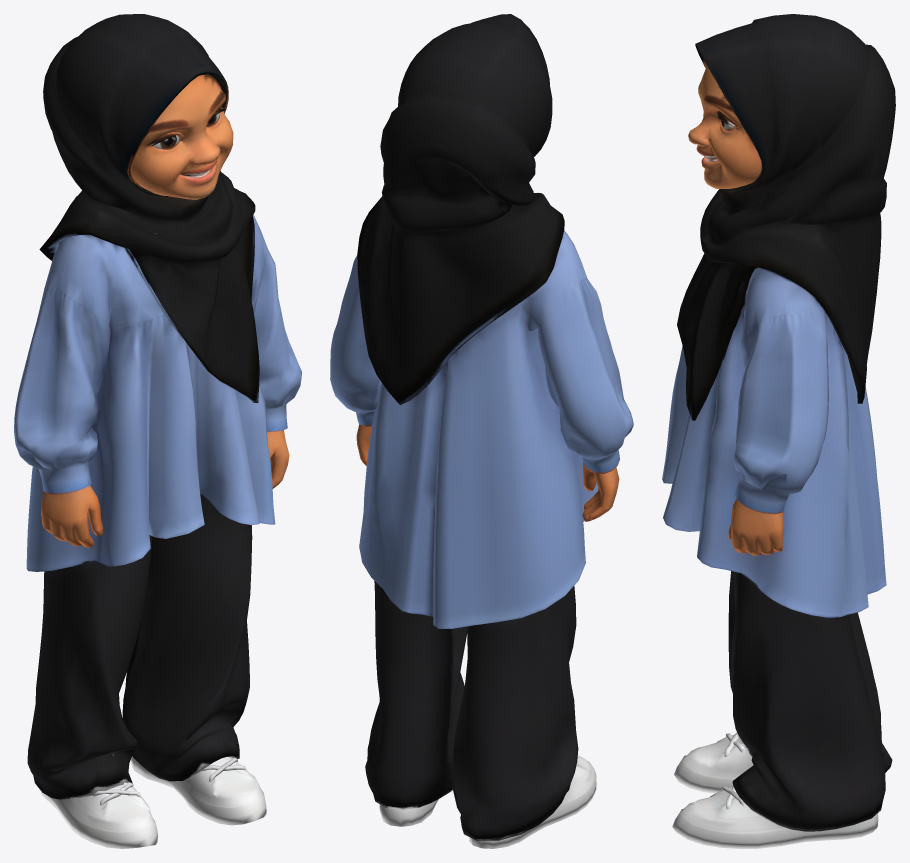
File: MokNgoh_source.glb
3 renders of one model, left to right at view 1: azimuth 30°, elevation 25°; view 2: azimuth 150°, elevation 25°; view 3: azimuth 270°, elevation 25°, orthographic.
Visible parts, largest first — view 1: tripo_39bc9901_1127_45c0_bca3_801816db08fc; view 2: tripo_39bc9901_1127_45c0_bca3_801816db08fc; view 3: tripo_39bc9901_1127_45c0_bca3_801816db08fc.
Part boxes in pixels (x1,y1,x2,y2): tripo_39bc9901_1127_45c0_bca3_801816db08fc: (14,14,301,848); tripo_39bc9901_1127_45c0_bca3_801816db08fc: (330,14,633,848); tripo_39bc9901_1127_45c0_bca3_801816db08fc: (662,14,895,848).
Bounding box in the file's own units: 0.3872 × 0.9995 × 0.269.
Materials: 1 (1 with a texture image).
